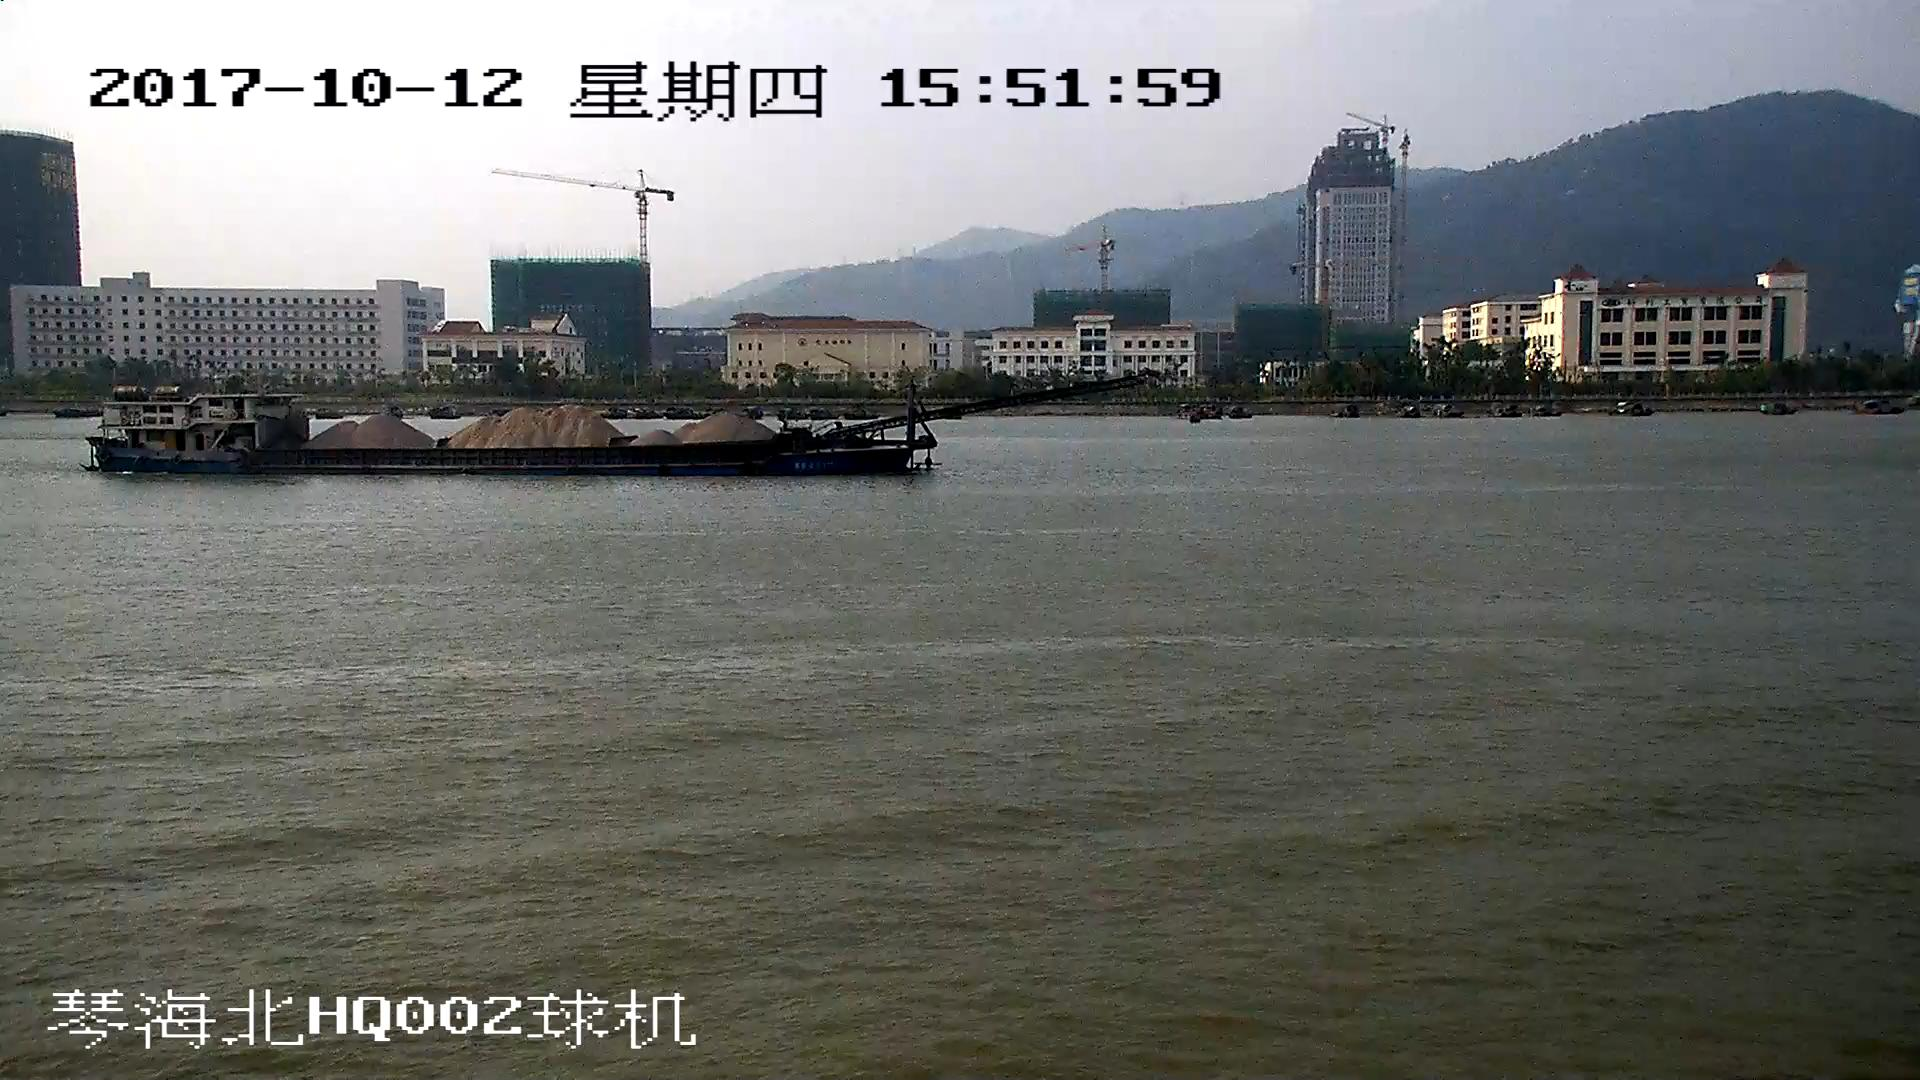ore carrier: (89, 376, 1145, 476)
